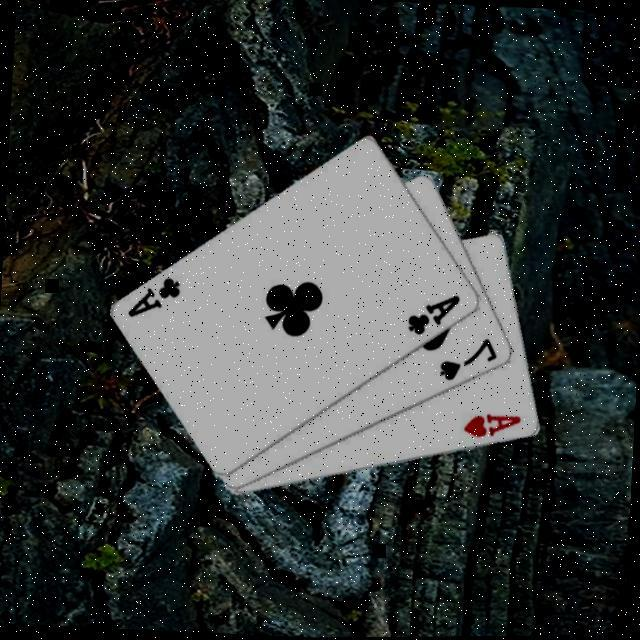7S: (438, 334, 504, 388)
AC: (406, 290, 466, 342), (127, 273, 187, 324)
AH: (462, 411, 526, 444)
